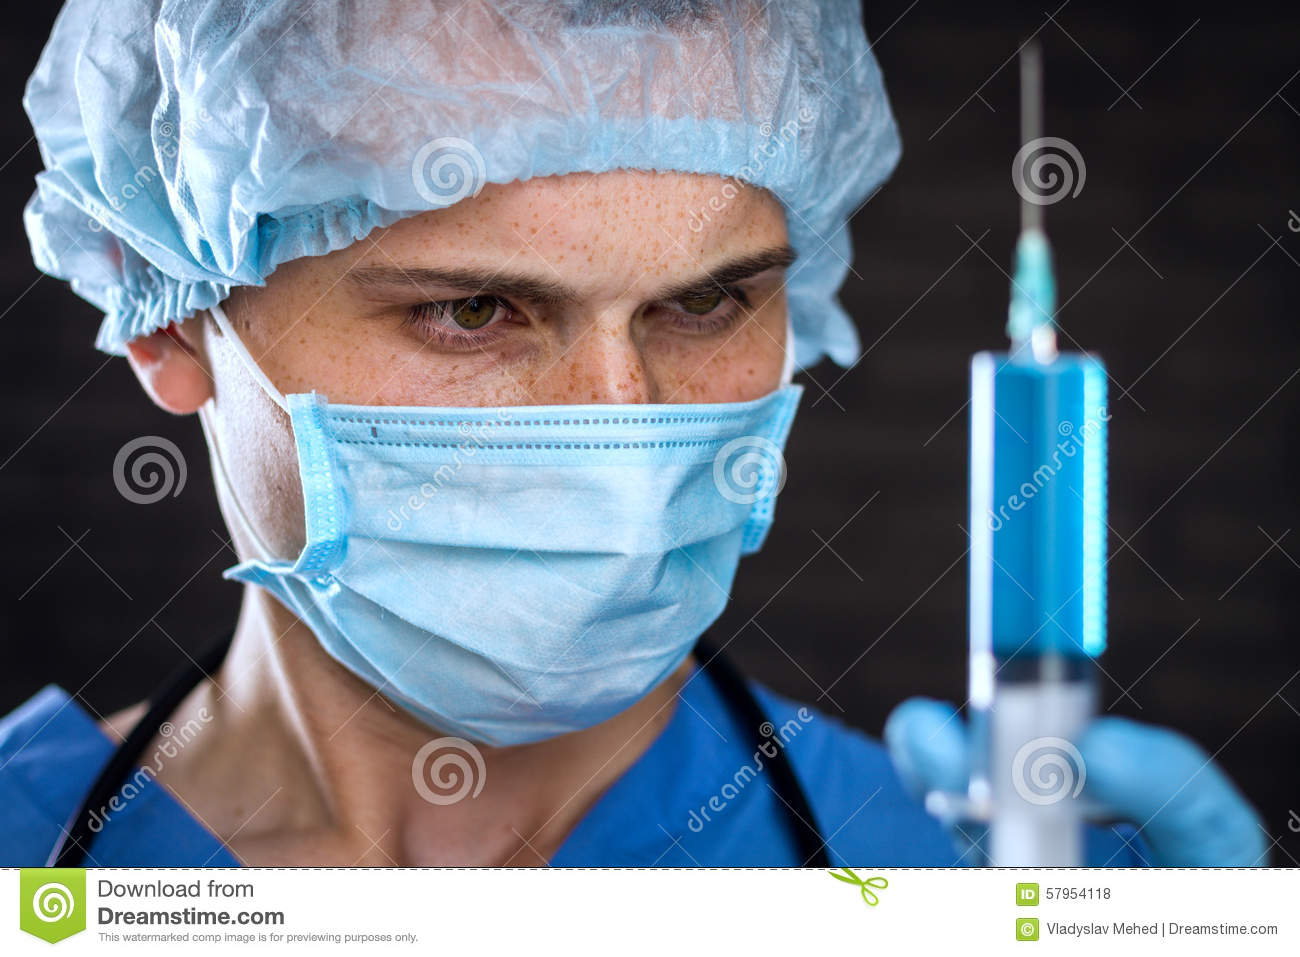mask: (229, 394, 799, 744)
